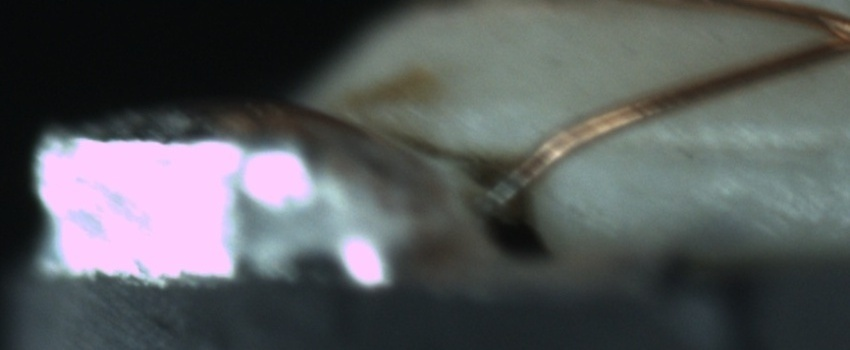DL: (623, 112, 843, 185)
